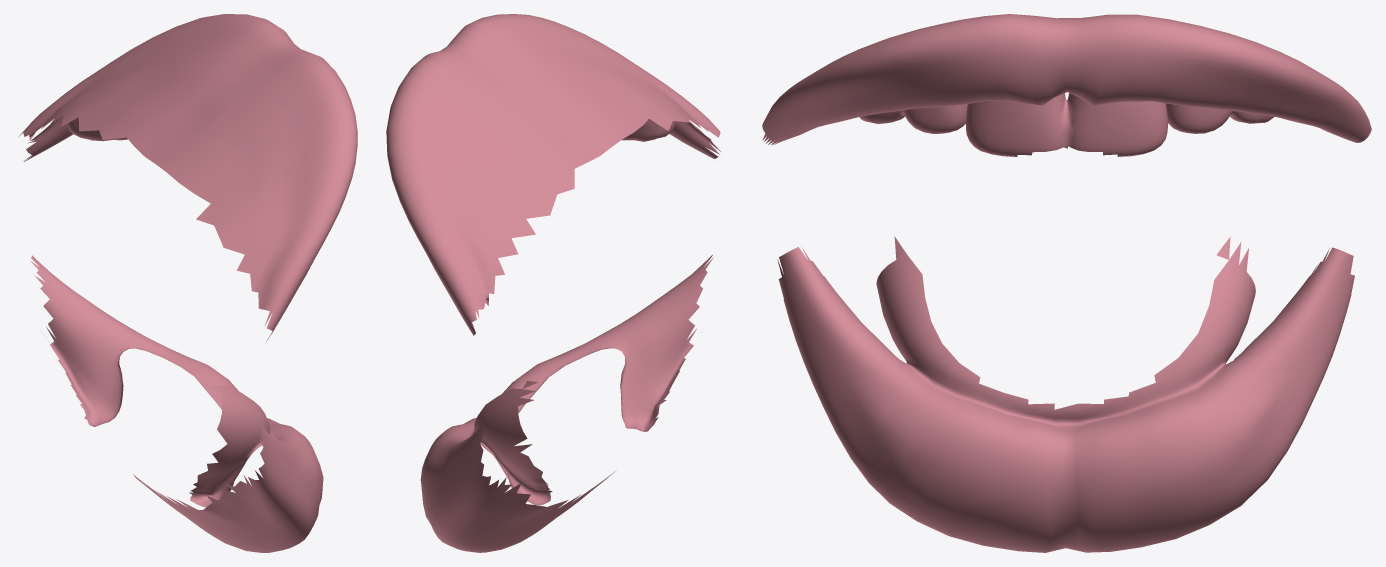
The model's file is realistic-open-mouth-lips-front.glb.
The picture shows the model from 3 angles, left to right: view 1: azimuth 30°, elevation 25°; view 2: azimuth 150°, elevation 25°; view 3: azimuth 270°, elevation 25°; orthographic projection. The views are drawn at different scales.
Visible parts, largest first — view 1: lips-front; view 2: lips-front; view 3: lips-front.
Part boxes in pixels (<box>): lips-front: <box>18,14,357,552</box>; lips-front: <box>386,14,720,552</box>; lips-front: <box>762,14,1371,552</box>.
Size of the model in its own units: 0.3702 by 0.9483 by 0.9184.
